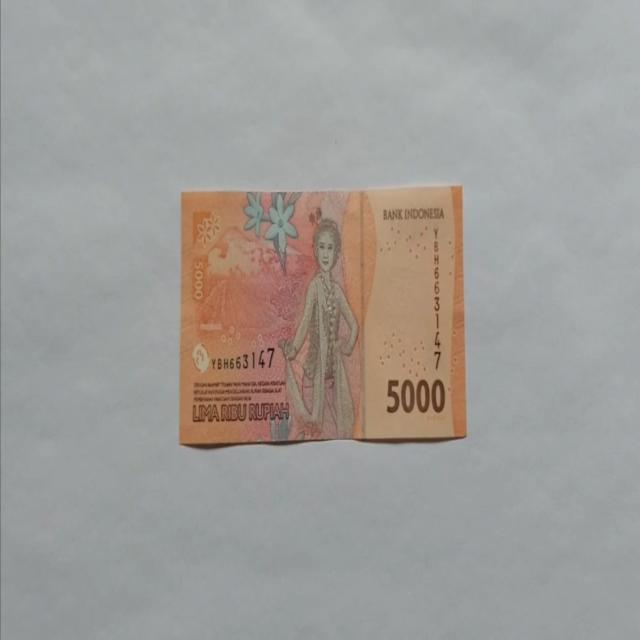lima ribu rupiah: (178, 184, 466, 447), (276, 217, 360, 440)
